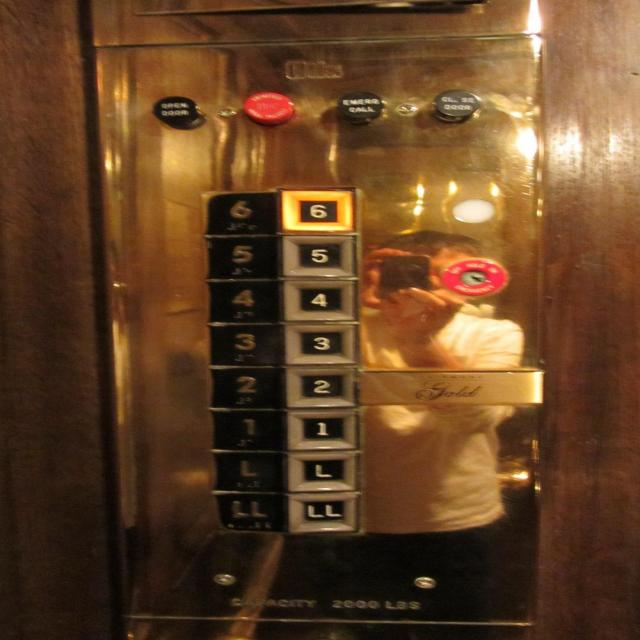1: (282, 408, 362, 453), (208, 409, 286, 452)
2: (280, 366, 362, 411), (208, 366, 286, 409)
3: (278, 323, 360, 367), (206, 322, 286, 366)
4: (279, 278, 359, 325), (206, 278, 284, 324)
5: (278, 233, 362, 281), (204, 234, 280, 279)
6: (276, 187, 359, 235), (203, 190, 279, 234)
L: (209, 449, 287, 493), (285, 452, 365, 494)
LL: (284, 492, 363, 535), (214, 490, 287, 531)
empty: (451, 197, 495, 223)
keyhole: (437, 257, 506, 295)
text: (151, 96, 207, 131), (242, 91, 296, 126), (431, 88, 482, 124), (336, 90, 384, 127)
